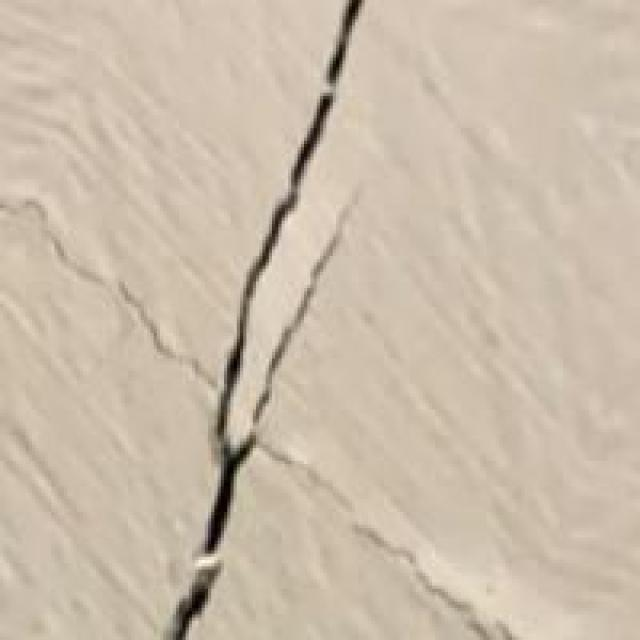Crack: (141, 10, 413, 637)
